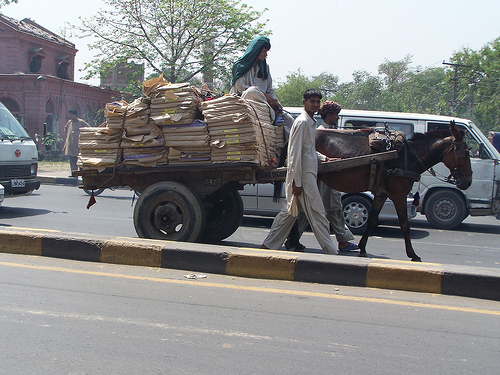horse: (270, 118, 474, 268)
